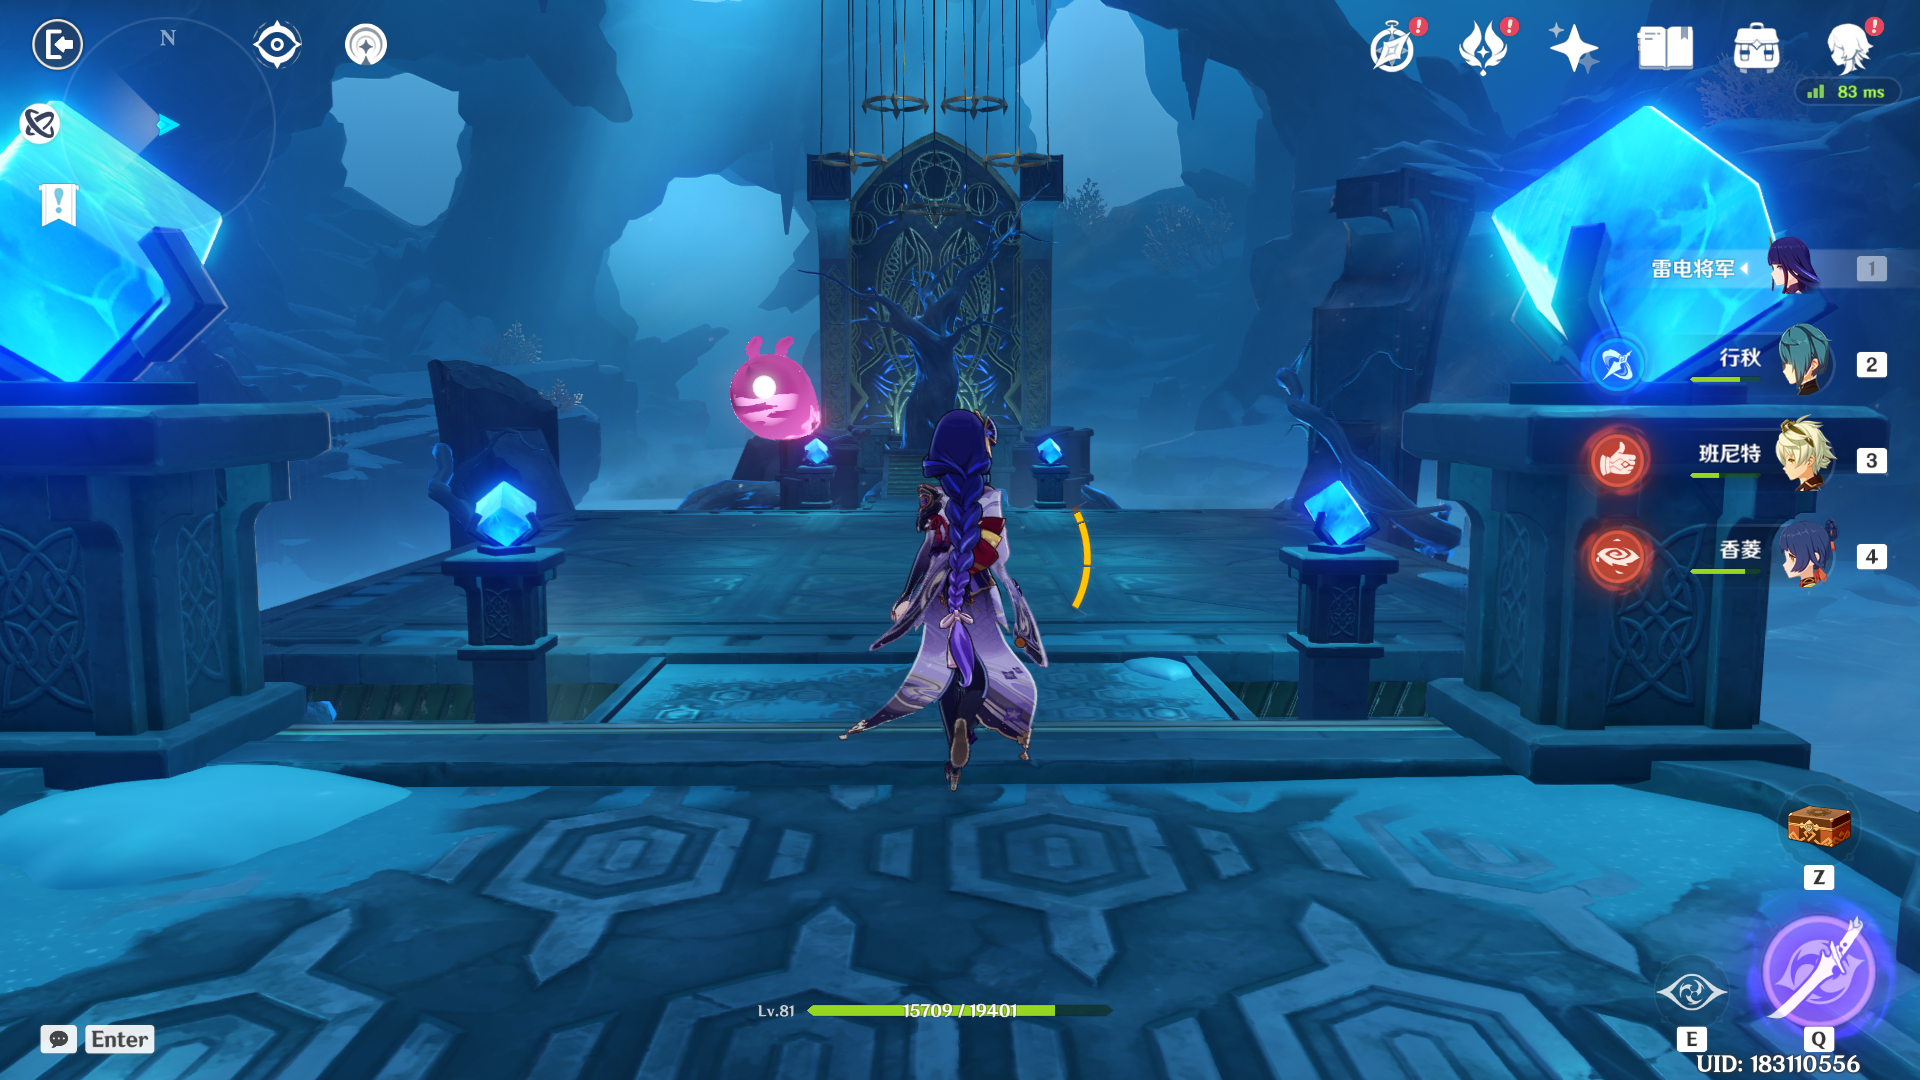character: (855, 400, 1104, 814)
